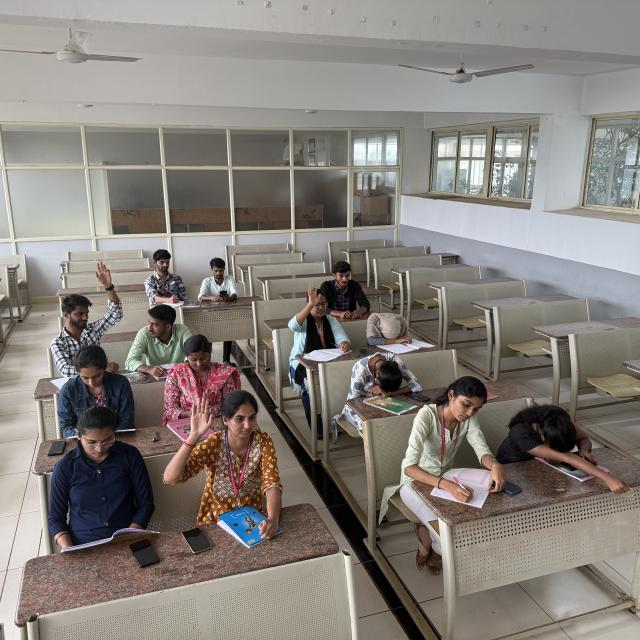Hand Rising: (173, 382, 295, 511), (35, 257, 122, 360), (279, 282, 354, 361)
Reading: (36, 407, 167, 548), (42, 351, 155, 435)
Sleeping: (502, 392, 620, 482), (344, 349, 422, 423), (359, 297, 438, 344)
Using Phone: (193, 250, 254, 306)
Writing: (418, 368, 502, 515), (129, 248, 200, 308)
